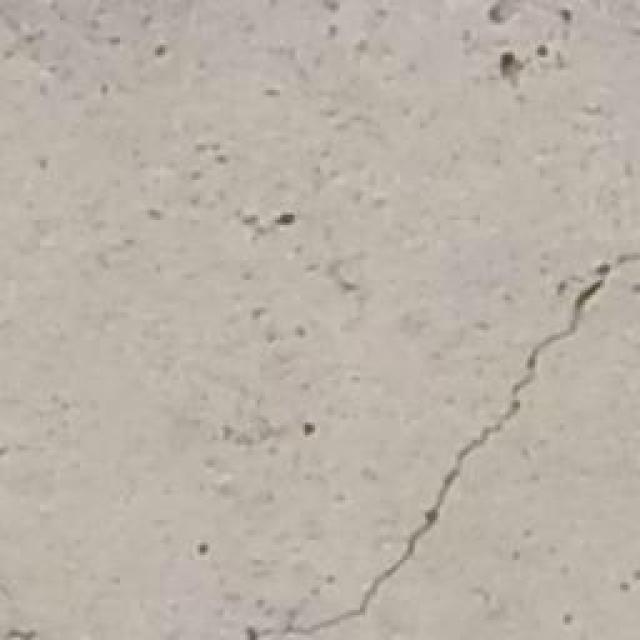concrete-crack: (248, 252, 640, 640)
